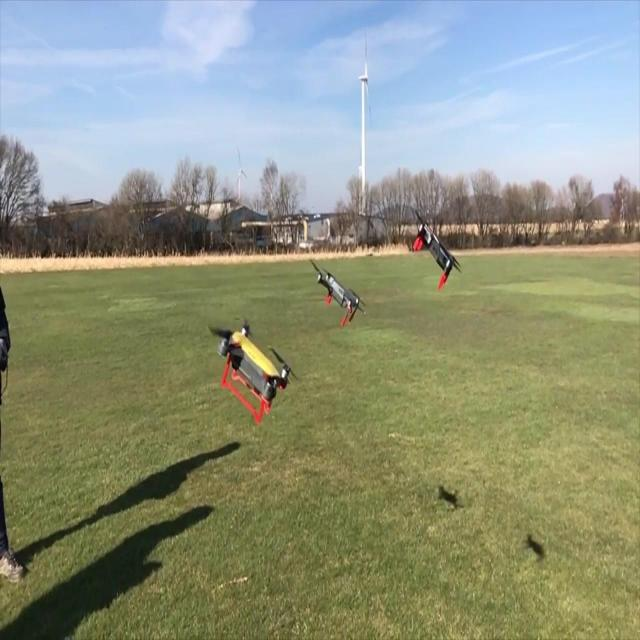UAV: (206, 316, 298, 424), (413, 210, 462, 292), (309, 259, 367, 327)
